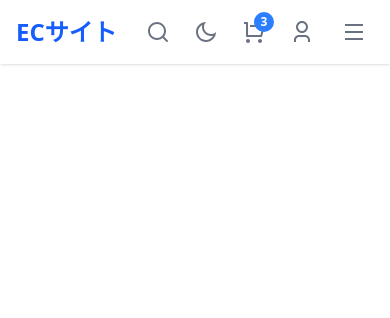
Test: UserHeader › toggles mobile menu when the menu button is clicked
expect the text "ホーム" is not shown: met
Click the button with test id "mobile-menu-button": point(354, 32) [334,12,374,52]
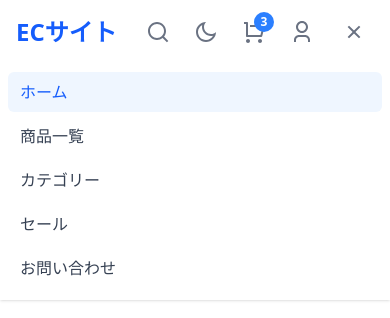
expect the link "ホーム" is shown: met, box [8,72,382,112]
Click the button with test id "mobile-menu-button": point(354, 32) [334,12,374,52]
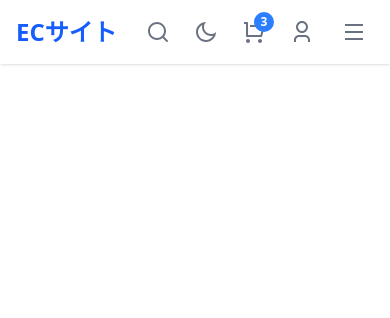
expect the link "ホーム" is gone: met
